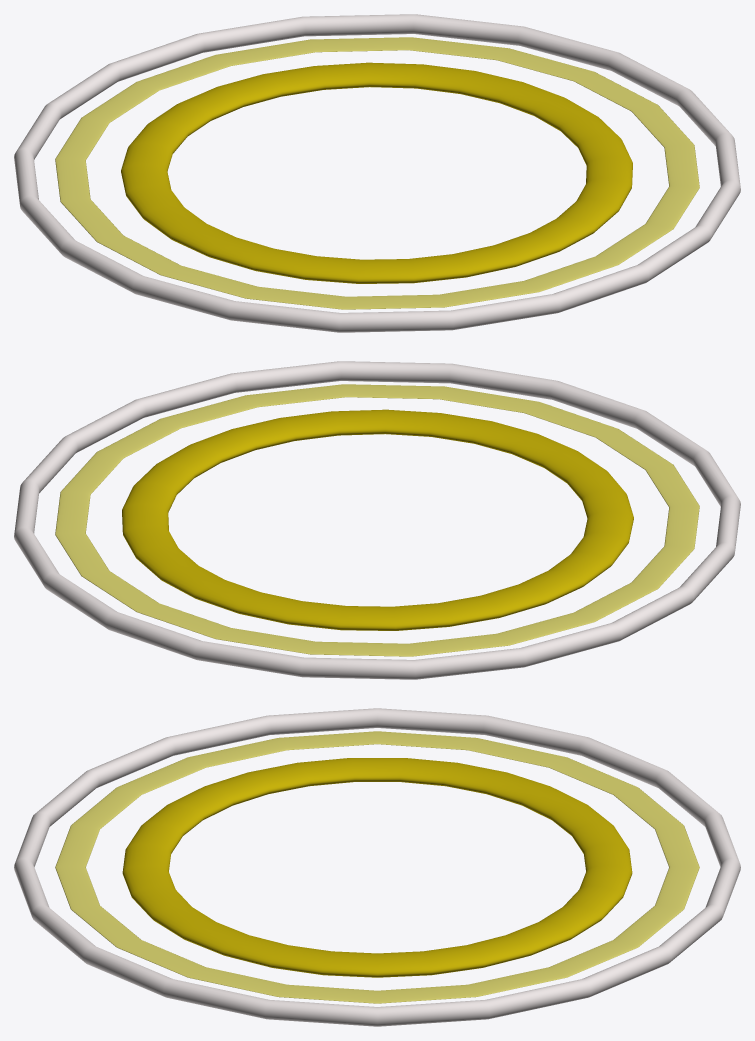
The model's file is highlightmesh.fbx.
3 views of the same model, one above another, from view 1: azimuth 30°, elevation 25°; view 2: azimuth 150°, elevation 25°; view 3: azimuth 270°, elevation 25° (orthographic).
Visible parts, largest first — view 1: pTorus3, pTorus1, pTorus2; view 2: pTorus3, pTorus1, pTorus2; view 3: pTorus3, pTorus1, pTorus2.
Part boxes in pixels (<box>): pTorus3: <box>14,14,740,332</box>; pTorus1: <box>121,62,632,283</box>; pTorus2: <box>55,37,699,309</box>; pTorus3: <box>14,361,740,679</box>; pTorus1: <box>122,409,633,630</box>; pTorus2: <box>55,384,699,656</box>; pTorus3: <box>14,708,740,1026</box>; pTorus1: <box>122,758,632,977</box>; pTorus2: <box>55,731,699,1003</box>.
Size of the model in its own units: 3.36 by 0.092 by 3.36.
